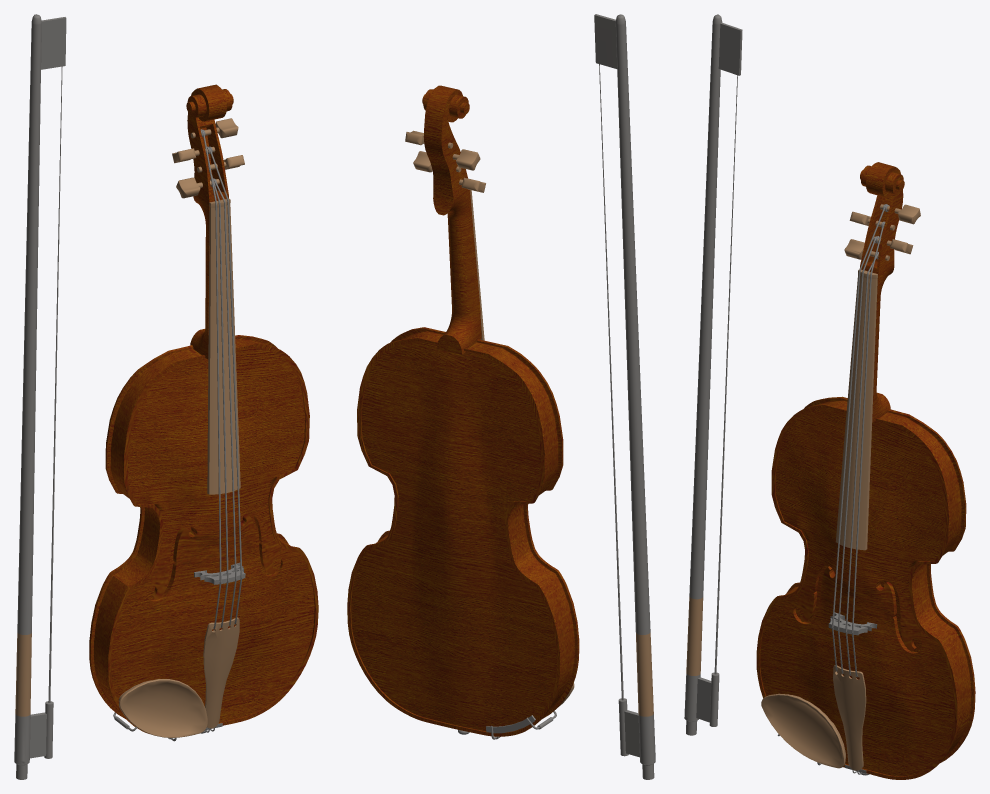
The model's file is violin_with_textures.fbx.
3 views of the same model, side by side, from view 1: azimuth 30°, elevation 25°; view 2: azimuth 150°, elevation 25°; view 3: azimuth 330°, elevation 25° (orthographic). The views are drawn at different scales.
Parts seen in each view (by area): view 1: 10397_Violin_L1; view 2: 10397_Violin_L1; view 3: 10397_Violin_L1.
Boxes of the visible parts, box(x1,y1,x2,y2) form: 10397_Violin_L1: box(14, 14, 318, 779); 10397_Violin_L1: box(347, 14, 655, 779); 10397_Violin_L1: box(684, 14, 975, 779).
Bounding box in the file's own units: 102 × 250 × 27.61.
Materials: 3 (1 with a texture image).
